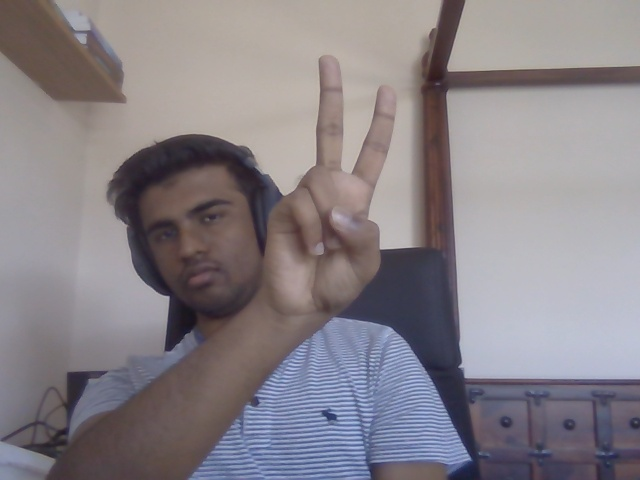Peace: (266, 53, 395, 309)
